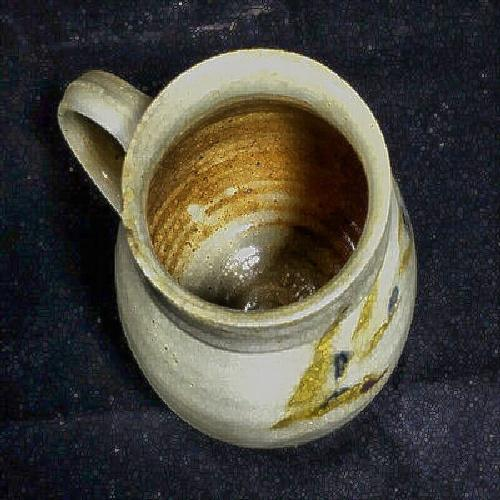mug: (81, 61, 428, 450)
